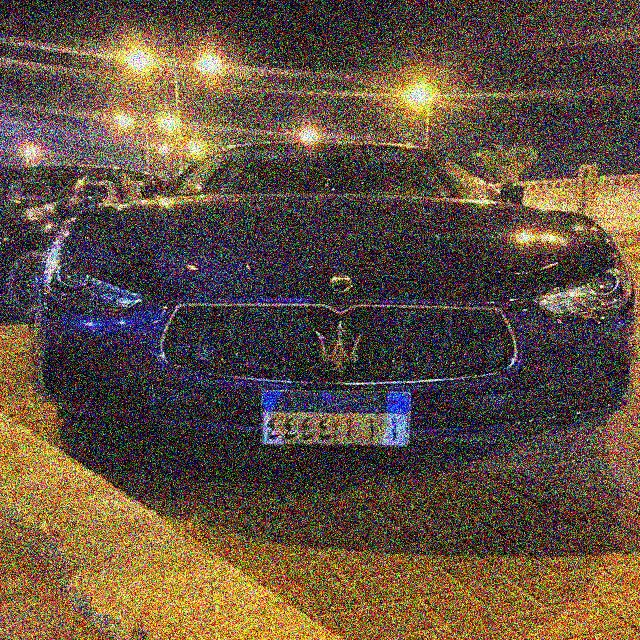License Plate: (258, 389, 414, 450)
